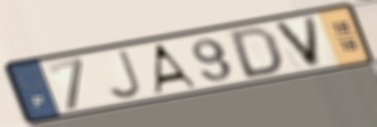7: (46, 57, 86, 111)
9: (190, 36, 234, 82)
A: (150, 41, 200, 95)
D: (229, 25, 285, 81)
J: (105, 48, 144, 101)
V: (270, 14, 324, 70)
